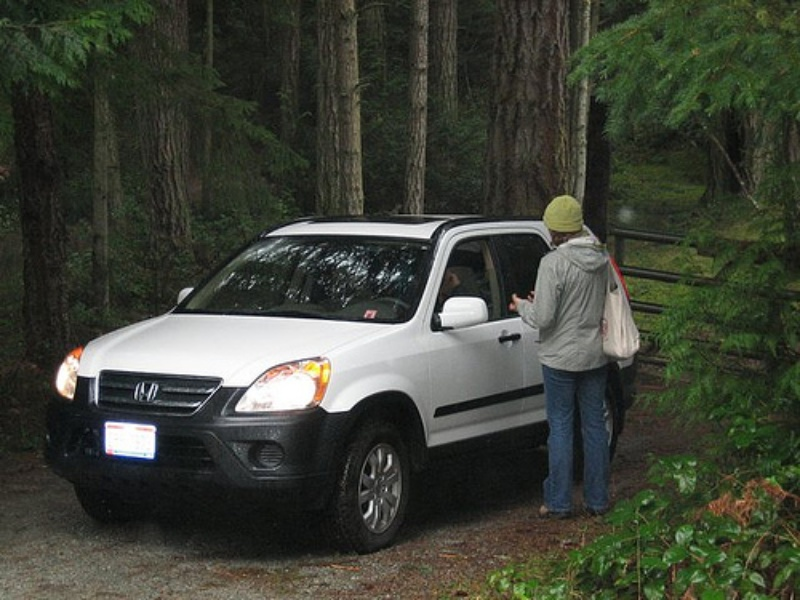car: (47, 211, 635, 548)
person: (509, 196, 641, 516)
